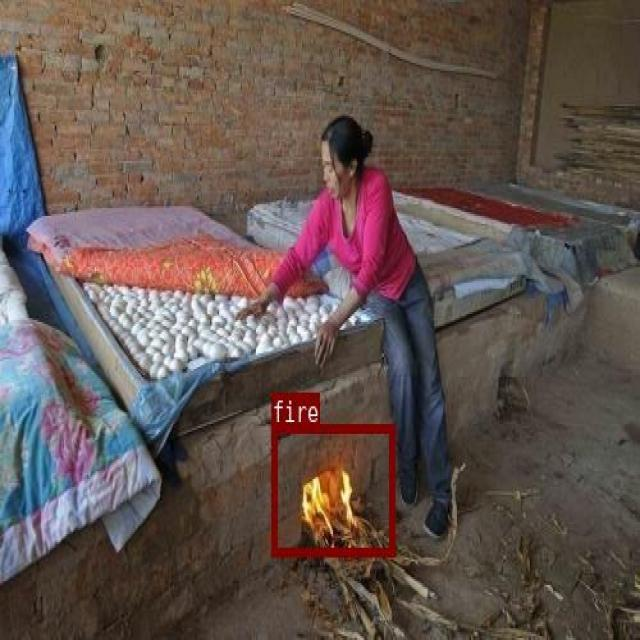fire: (270, 423, 394, 555)
